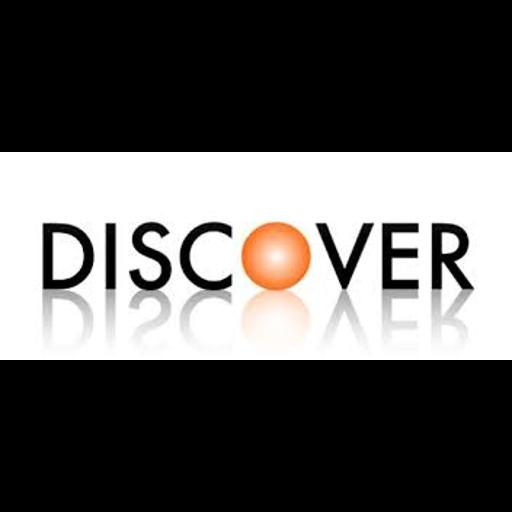Discover: (0, 152, 512, 360)
